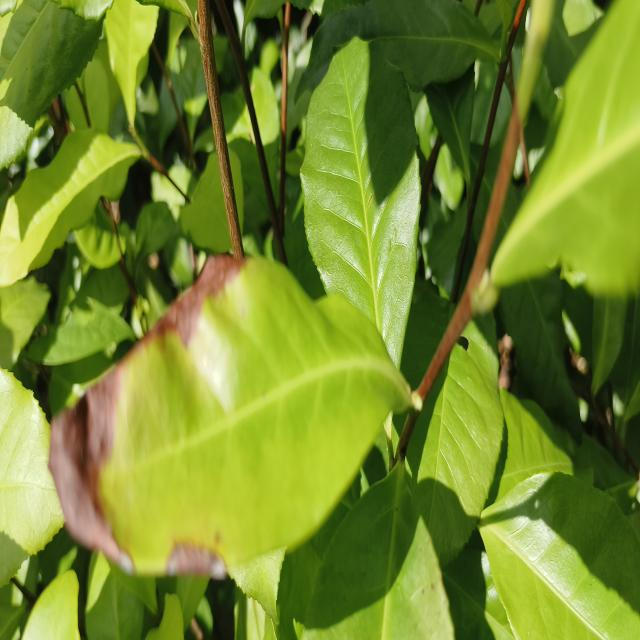Leaf: (50, 256, 411, 574), (491, 0, 640, 296), (301, 38, 421, 366), (479, 473, 640, 640), (303, 465, 454, 640), (406, 317, 503, 564), (0, 130, 140, 286), (0, 0, 112, 169), (298, 0, 499, 94), (497, 270, 582, 439), (0, 369, 64, 587), (28, 298, 134, 365), (105, 0, 159, 126), (426, 66, 475, 183), (180, 151, 232, 253), (0, 277, 50, 369), (401, 289, 448, 384), (21, 570, 80, 640), (591, 297, 627, 394), (174, 39, 208, 141), (74, 204, 120, 269), (488, 183, 523, 263), (472, 149, 501, 242), (135, 202, 176, 259), (229, 151, 244, 231), (470, 144, 482, 191), (213, 37, 228, 73)
